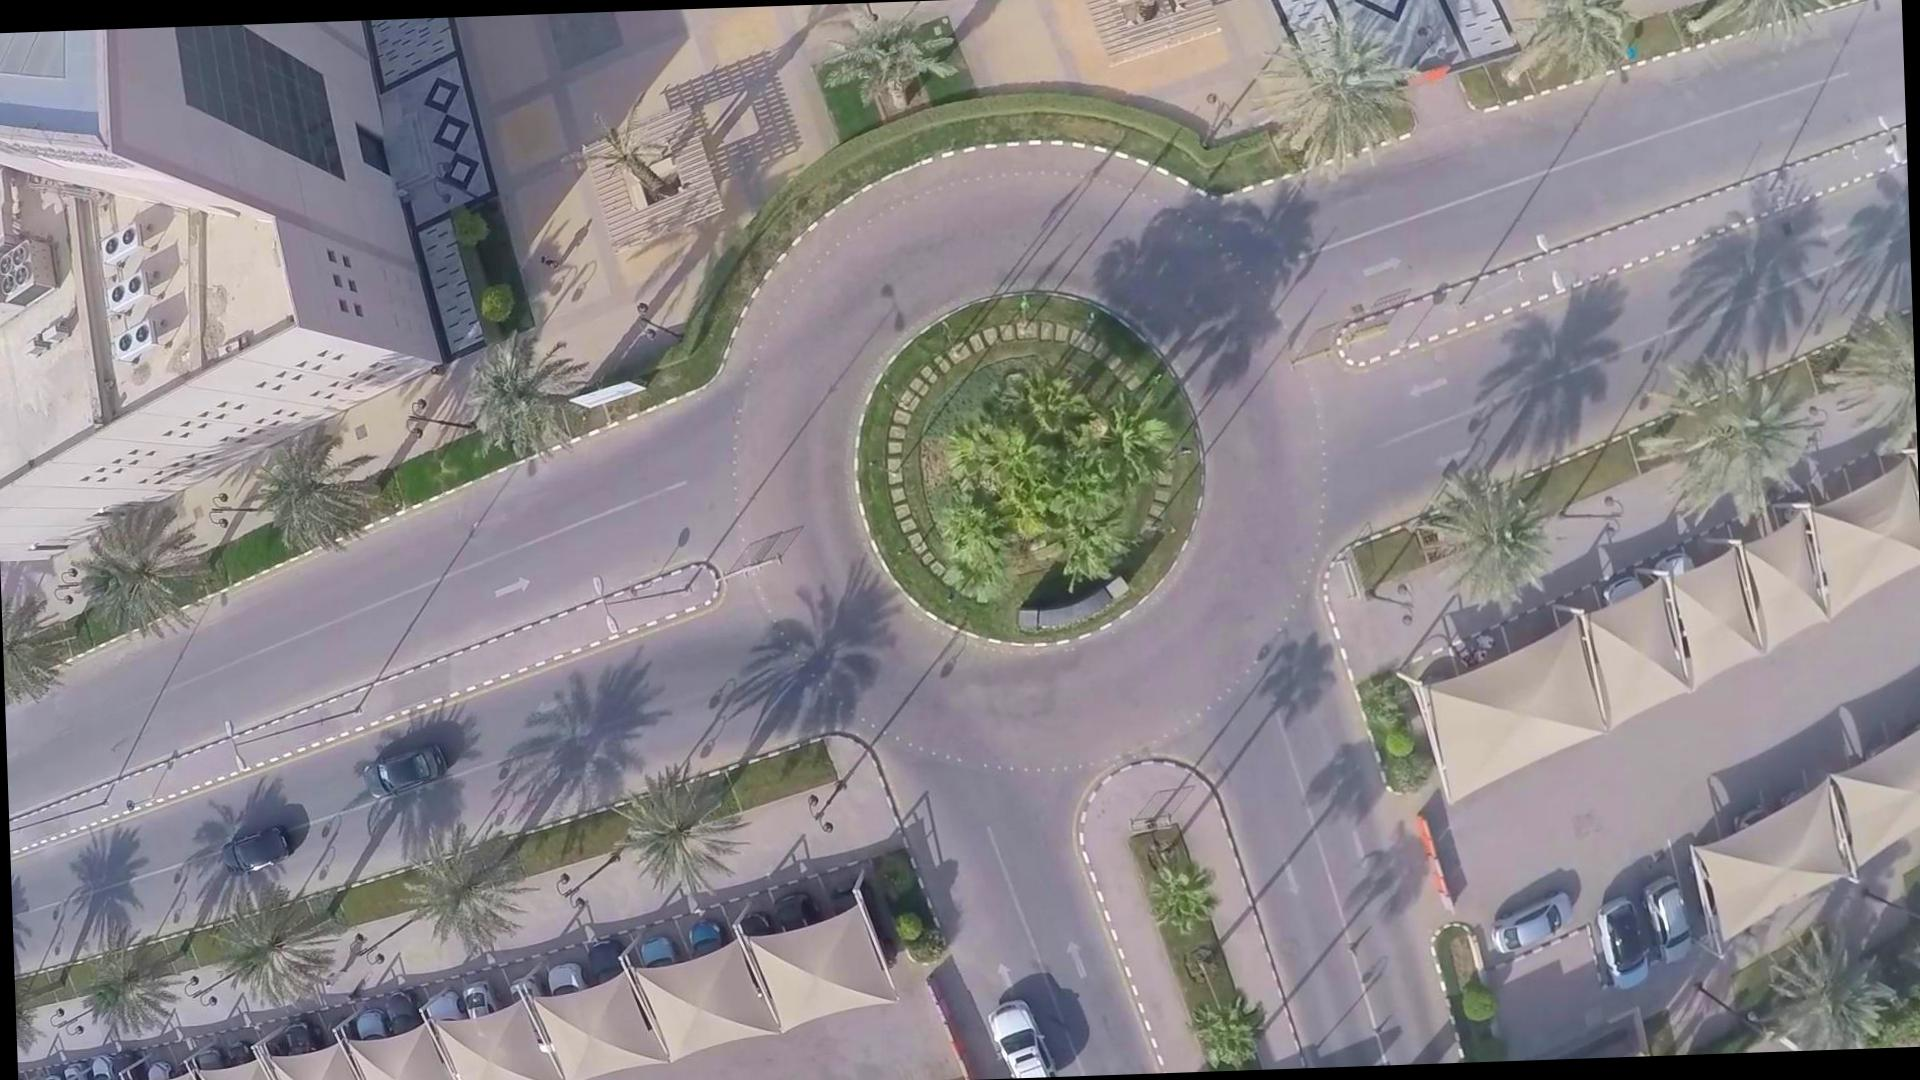vehicle: (351, 738, 450, 808), (212, 822, 298, 880)
